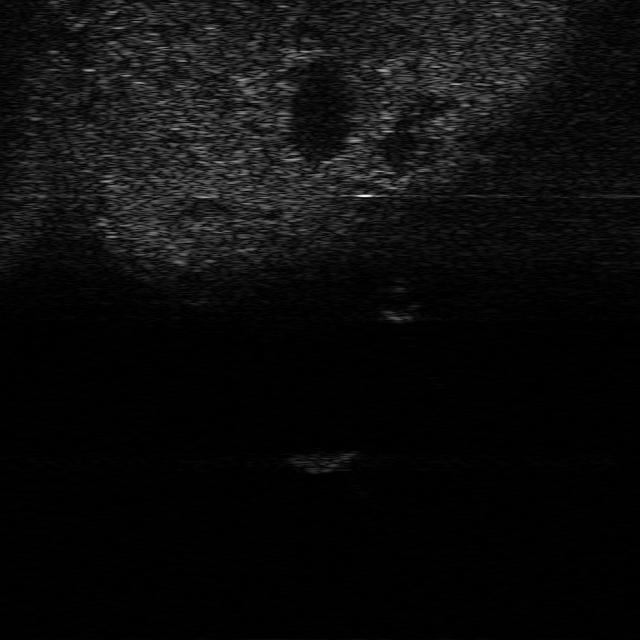ball: (376, 286, 420, 325)
cube: (286, 449, 359, 476)
